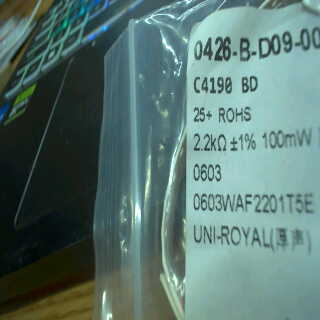2.2kR: (188, 128, 229, 154)
